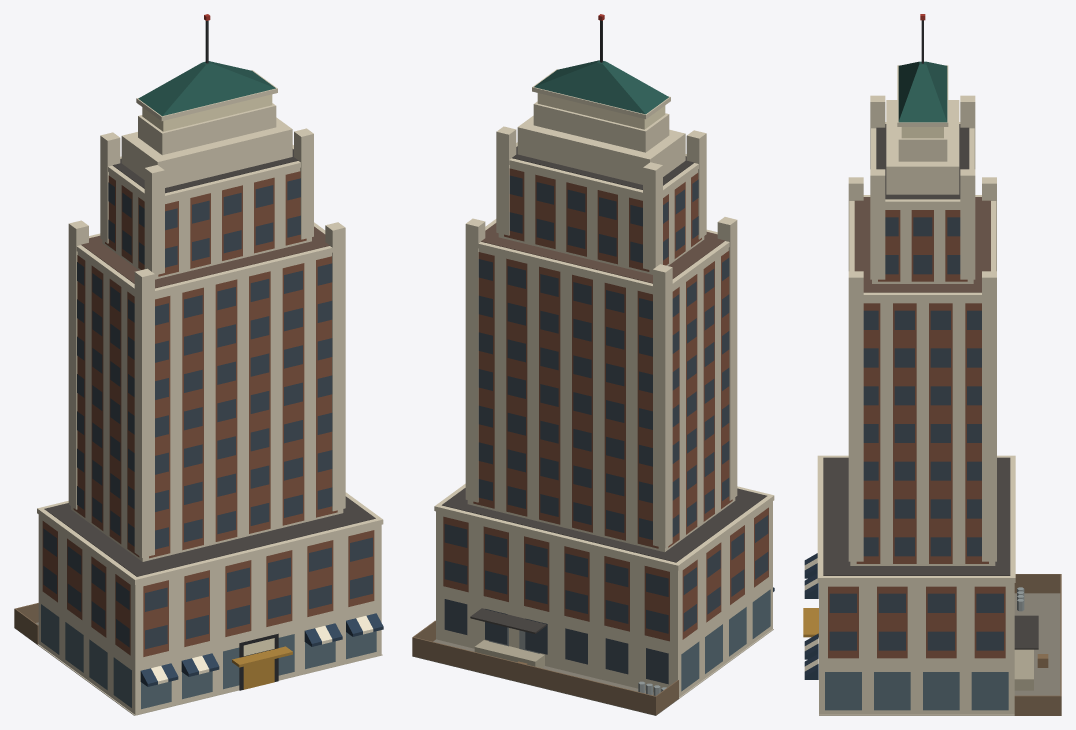
The model's file is tower_wd.glb.
3 renders of one model, left to right at view 1: azimuth 30°, elevation 25°; view 2: azimuth 150°, elevation 25°; view 3: azimuth 270°, elevation 25°, orthographic. The views are drawn at different scales.
Parts seen in each view (by area): view 1: tower_wd; view 2: tower_wd; view 3: tower_wd.
Part boxes in pixels (x1,y1,x2,y2): tower_wd: [14, 14, 383, 715]; tower_wd: [412, 14, 774, 715]; tower_wd: [803, 14, 1061, 715].
Bounding box in the file's own units: 30 × 73.09 × 26.75.
